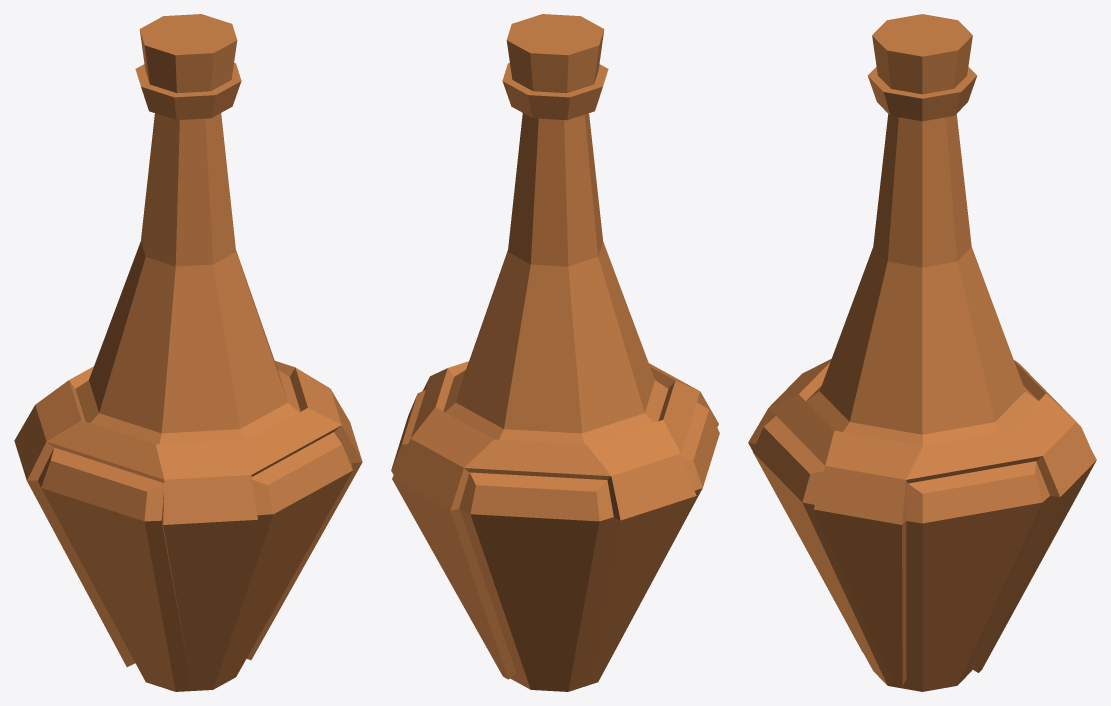
File: Potion.003.fbx
3 views of the same model, side by side, from view 1: azimuth 30°, elevation 25°; view 2: azimuth 150°, elevation 25°; view 3: azimuth 270°, elevation 25° (orthographic).
Visible parts, largest first — view 1: Potion.003; view 2: Potion.003; view 3: Potion.003.
Boxes of the visible parts, left/top/right/bottom form: Potion.003: left=14, top=14, right=362, bottom=691; Potion.003: left=391, top=14, right=719, bottom=691; Potion.003: left=748, top=14, right=1096, bottom=691.
Size of the model in its own units: 21.95 by 44.16 by 21.95.
